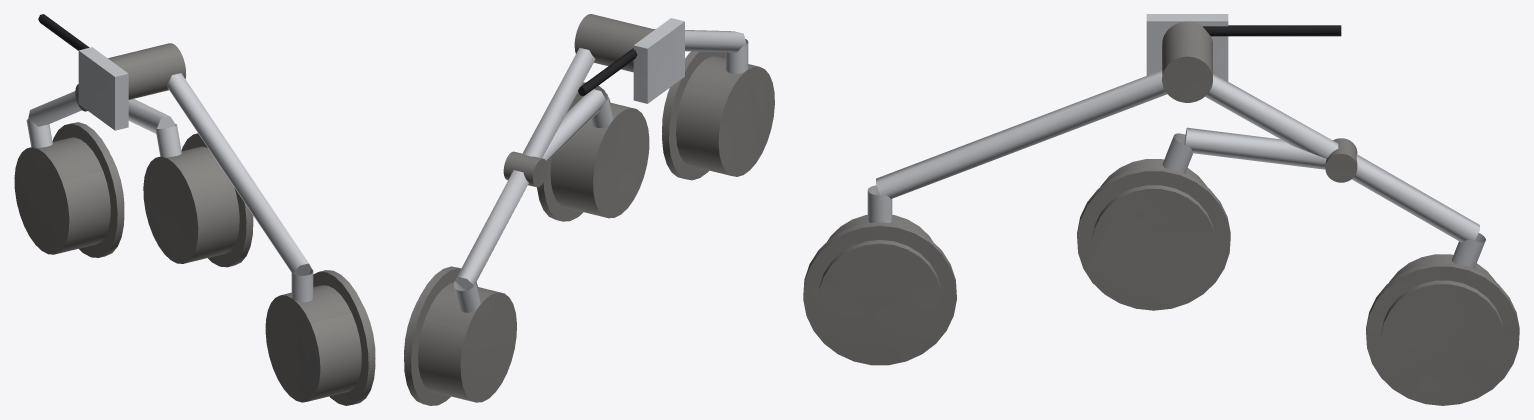
Rendered from rover16_rocker_bogie_xs_susp_up.glb.
3 views of the same model, side by side, from view 1: azimuth 30°, elevation 25°; view 2: azimuth 150°, elevation 25°; view 3: azimuth 270°, elevation 25° (orthographic). The views are drawn at different scales.
Visible parts, largest first — view 1: bogie_flange_3, wheel_flange_1, bogie_flange_2, rocker, mount_plate, bogie_beam, pivot, differential_link; view 2: wheel_flange_1, bogie_flange_3, bogie_flange_2, bogie_beam, rocker, mount_plate, pivot, bogie_pivot, differential_link; view 3: bogie_flange_3, bogie_flange_2, wheel_flange_1, rocker, bogie_beam, pivot, mount_plate, differential_link, bogie_pivot.
Boxes of the visible parts, left/top/right/bottom form: bogie_flange_3: left=14, top=122, right=124, bottom=257; wheel_flange_1: left=265, top=270, right=375, bottom=405; bogie_flange_2: left=143, top=133, right=253, bottom=267; rocker: left=166, top=73, right=313, bottom=302; mount_plate: left=78, top=47, right=128, bottom=130; bogie_beam: left=26, top=91, right=181, bottom=157; pivot: left=108, top=43, right=186, bottom=99; differential_link: left=38, top=14, right=89, bottom=50; wheel_flange_1: left=662, top=51, right=774, bottom=180; bogie_flange_3: left=404, top=266, right=516, bottom=405; bogie_flange_2: left=537, top=82, right=649, bottom=221; bogie_beam: left=453, top=89, right=613, bottom=312; rocker: left=522, top=29, right=748, bottom=158; mount_plate: left=633, top=18, right=684, bottom=103; pivot: left=574, top=14, right=654, bottom=72; bogie_pivot: left=503, top=151, right=547, bottom=187; differential_link: left=578, top=48, right=637, bottom=96; bogie_flange_3: left=1366, top=254, right=1519, bottom=405; bogie_flange_2: left=1077, top=159, right=1230, bottom=310; wheel_flange_1: left=803, top=215, right=956, bottom=365; rocker: left=867, top=70, right=1338, bottom=222; bogie_beam: left=1162, top=127, right=1485, bottom=268; pivot: left=1162, top=21, right=1212, bottom=102; mount_plate: left=1146, top=14, right=1228, bottom=81; differential_link: left=1203, top=25, right=1341, bottom=36; bogie_pivot: left=1325, top=138, right=1357, bottom=182.
Size of the model in its own units: 0.12 by 0.2991 by 0.5825.
3 materials, 2 textured.
